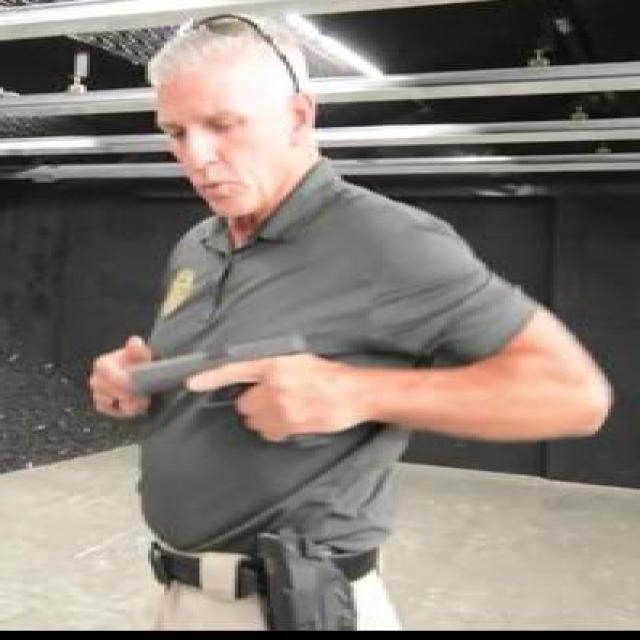Gun: (122, 327, 338, 443)
